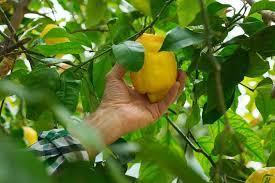lemon: (130, 34, 177, 103), (40, 24, 70, 60), (245, 167, 275, 183), (20, 126, 39, 146)
